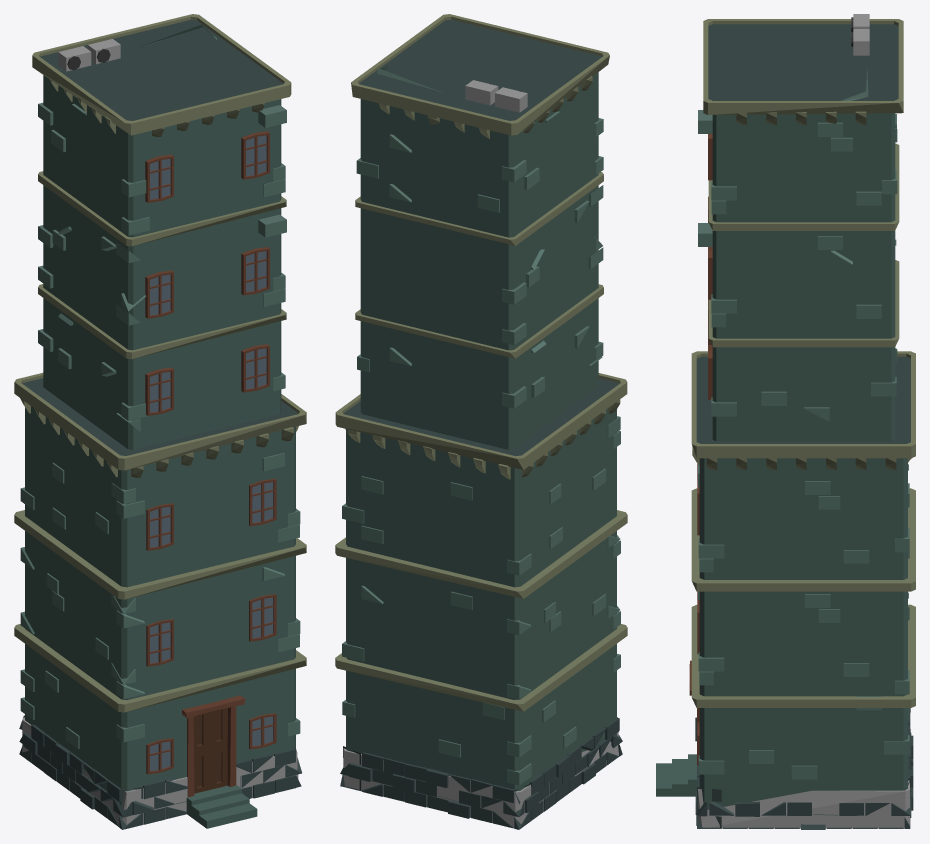
The model's file is 6Story_Stack.glb.
3 views of the same model, side by side, from view 1: azimuth 30°, elevation 25°; view 2: azimuth 150°, elevation 25°; view 3: azimuth 270°, elevation 25° (orthographic). The views are drawn at different scales.
Visible parts, largest first — view 1: 6Story_Stack_Mat; view 2: 6Story_Stack_Mat; view 3: 6Story_Stack_Mat.
Part boxes in pixels (bbox=[...]): 6Story_Stack_Mat: bbox=[14, 14, 306, 829]; 6Story_Stack_Mat: bbox=[335, 14, 627, 829]; 6Story_Stack_Mat: bbox=[656, 14, 915, 829].
Size of the model in its own units: 2.16 by 7.79 by 2.5.
